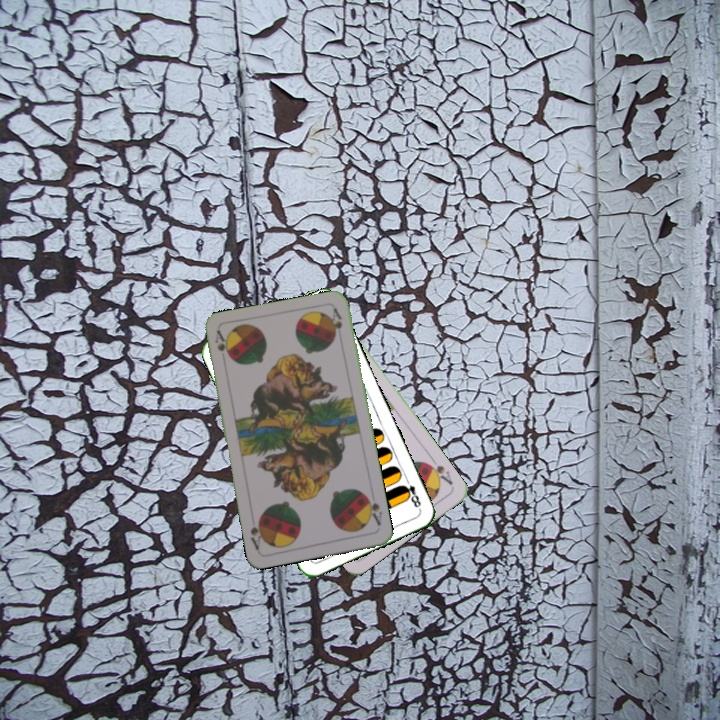E8: (398, 474, 423, 512)
SA: (422, 458, 456, 488), (361, 491, 385, 528), (211, 327, 232, 367)
